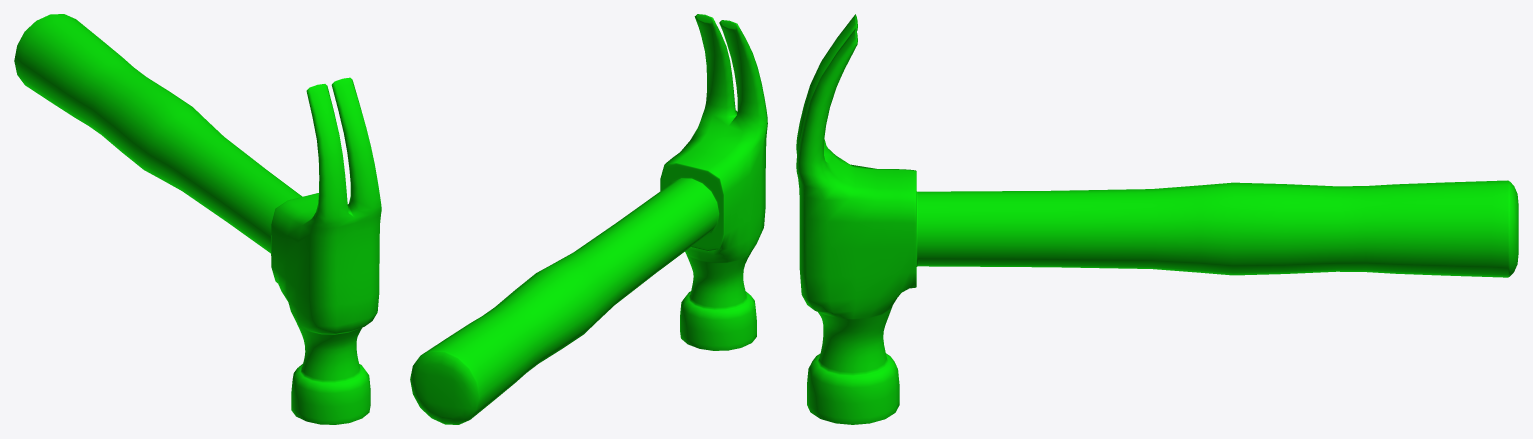
Rendered from Hammer_msh.fbx.
3 views of the same model, side by side, from view 1: azimuth 30°, elevation 25°; view 2: azimuth 150°, elevation 25°; view 3: azimuth 270°, elevation 25° (orthographic). The views are drawn at different scales.
Parts seen in each view (by area): view 1: Hammer_msh; view 2: Hammer_msh; view 3: Hammer_msh.
Part boxes in pixels (bbox=[...]): Hammer_msh: bbox=[14, 14, 381, 424]; Hammer_msh: bbox=[410, 14, 767, 424]; Hammer_msh: bbox=[796, 14, 1518, 424].
Size of the model in its own units: 6.79 by 29.32 by 50.29.
